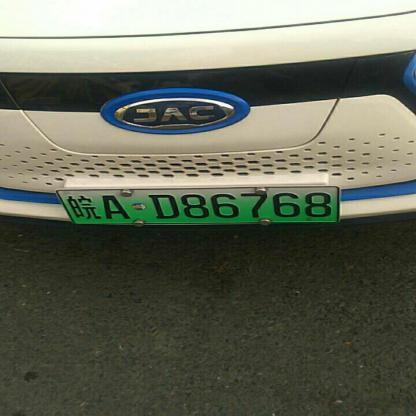lp: (57, 187, 75, 223)
